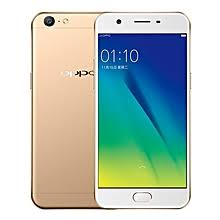oppo: (94, 7, 191, 212), (28, 9, 96, 209)
